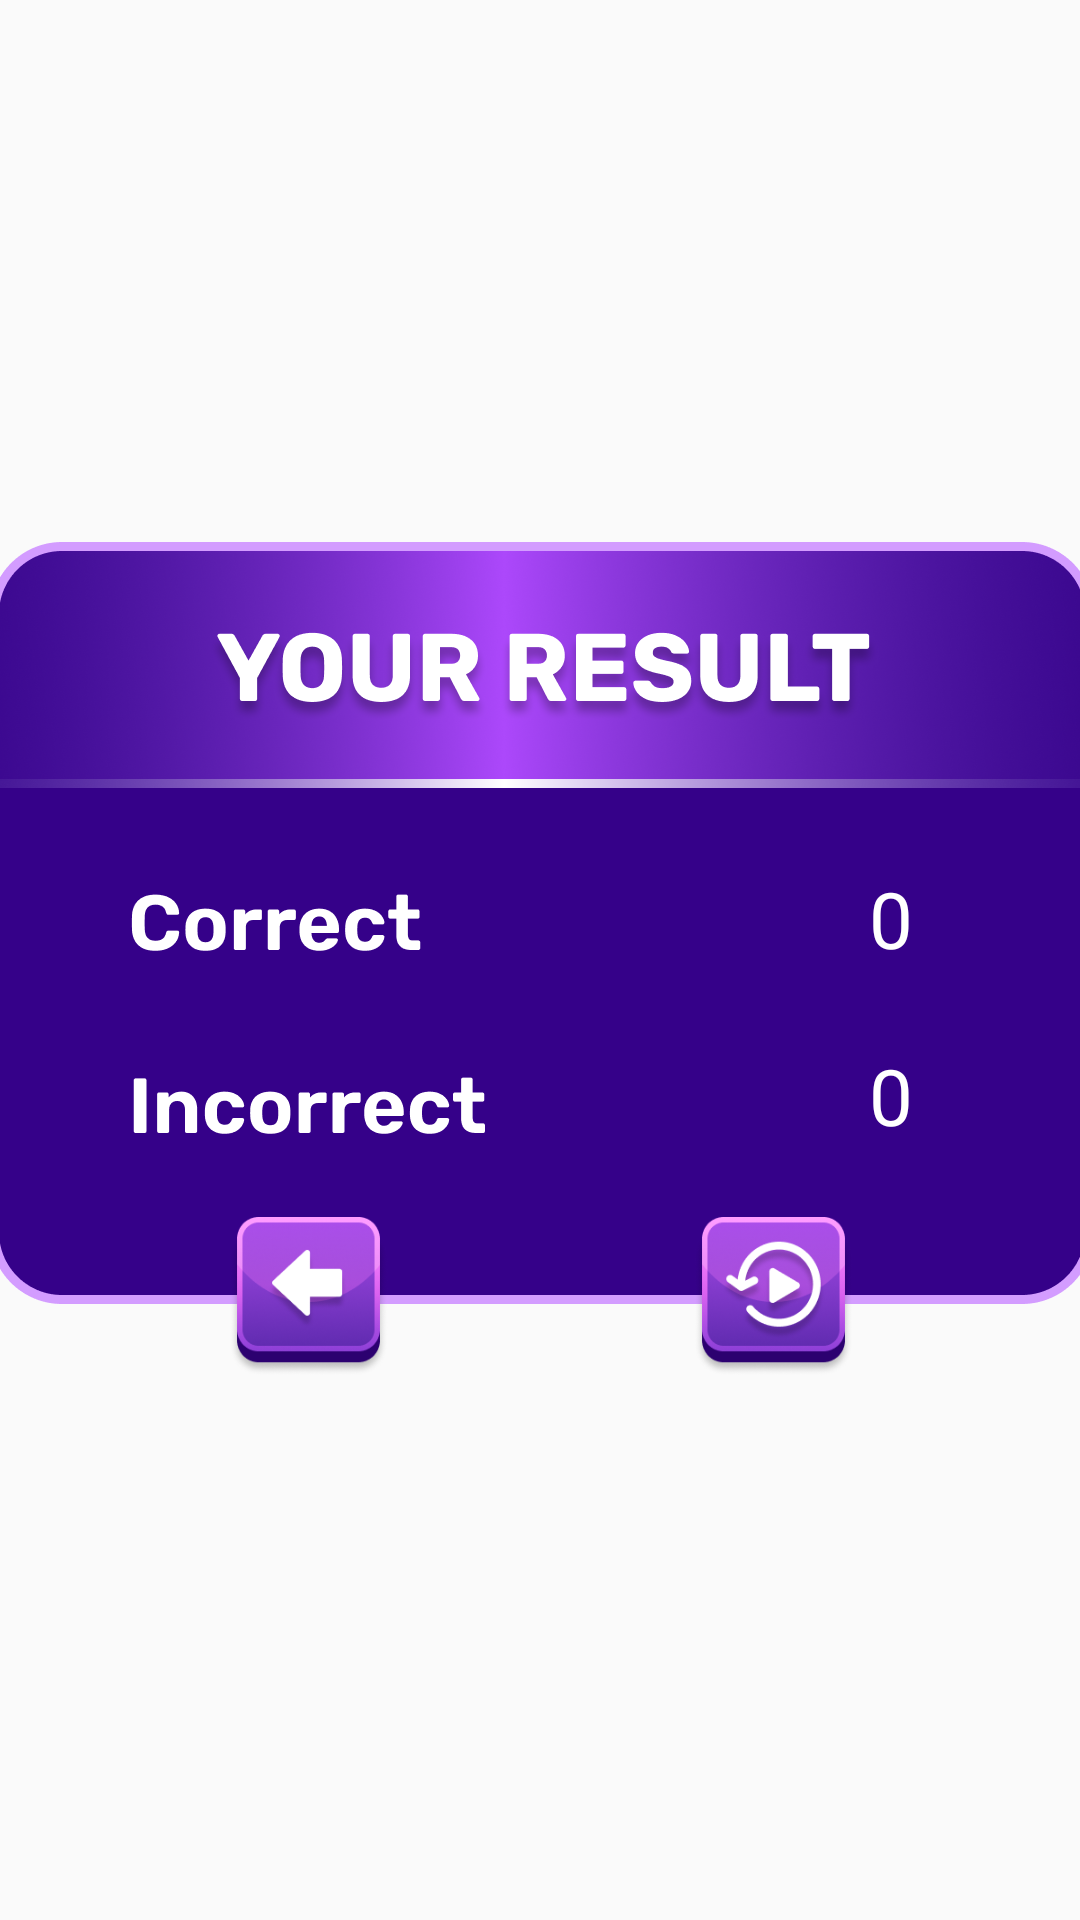

Icon click points for this 1080px×1920px phone screenshot, format (x,y):
back sel: (308,1296)
replay sel: (773,1296)
